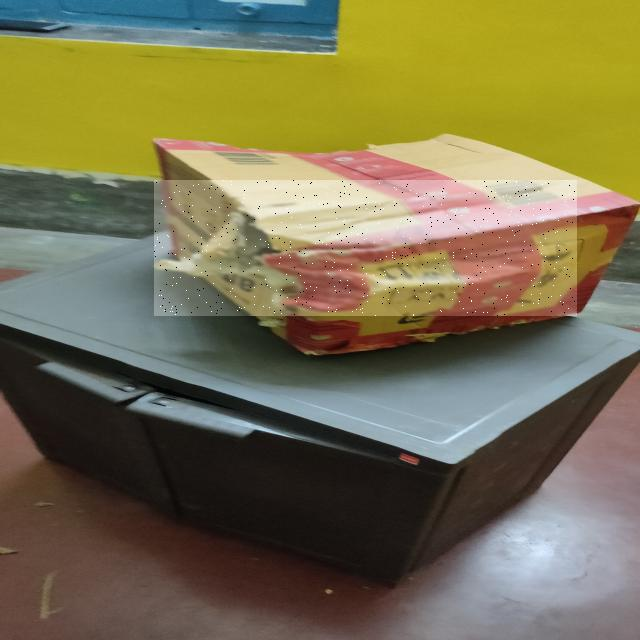squeeze: (155, 180, 575, 316)
